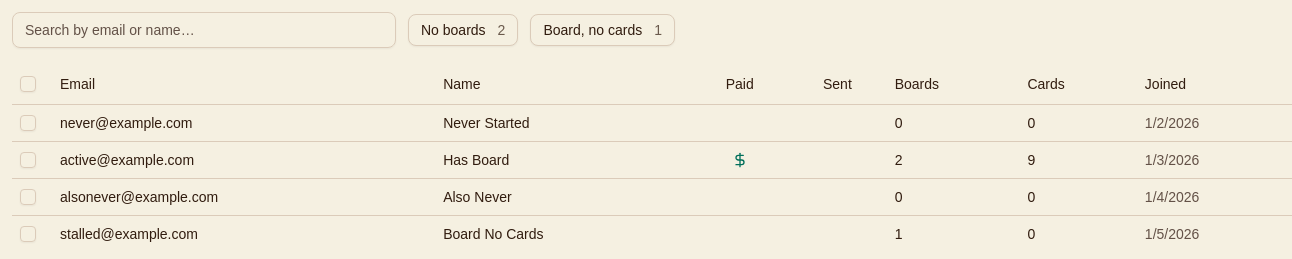
Test: UserSearch — board-but-no-cards filter › excludes users with no board at all — that is the other campaign
Click the button "Board, no cards 1".
click(603, 30)  # box [530,14,675,46]
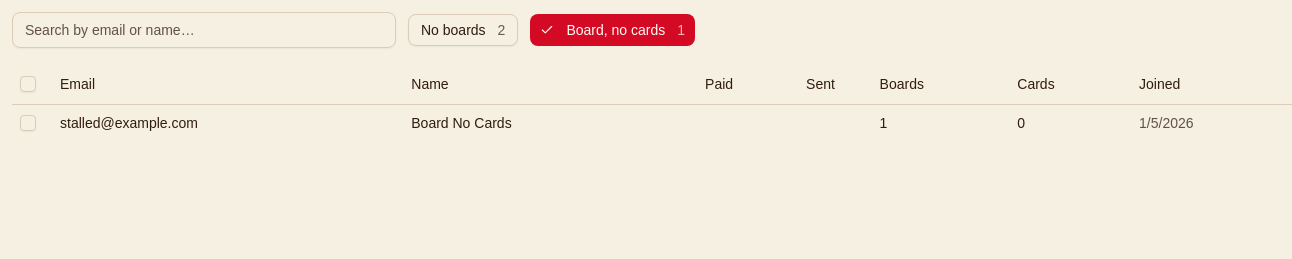
Expected: the link "stalled@example.com" is shown, [60,114,198,130]
Now the link "never@example.com" is gone
Now the link "active@example.com" is gone
